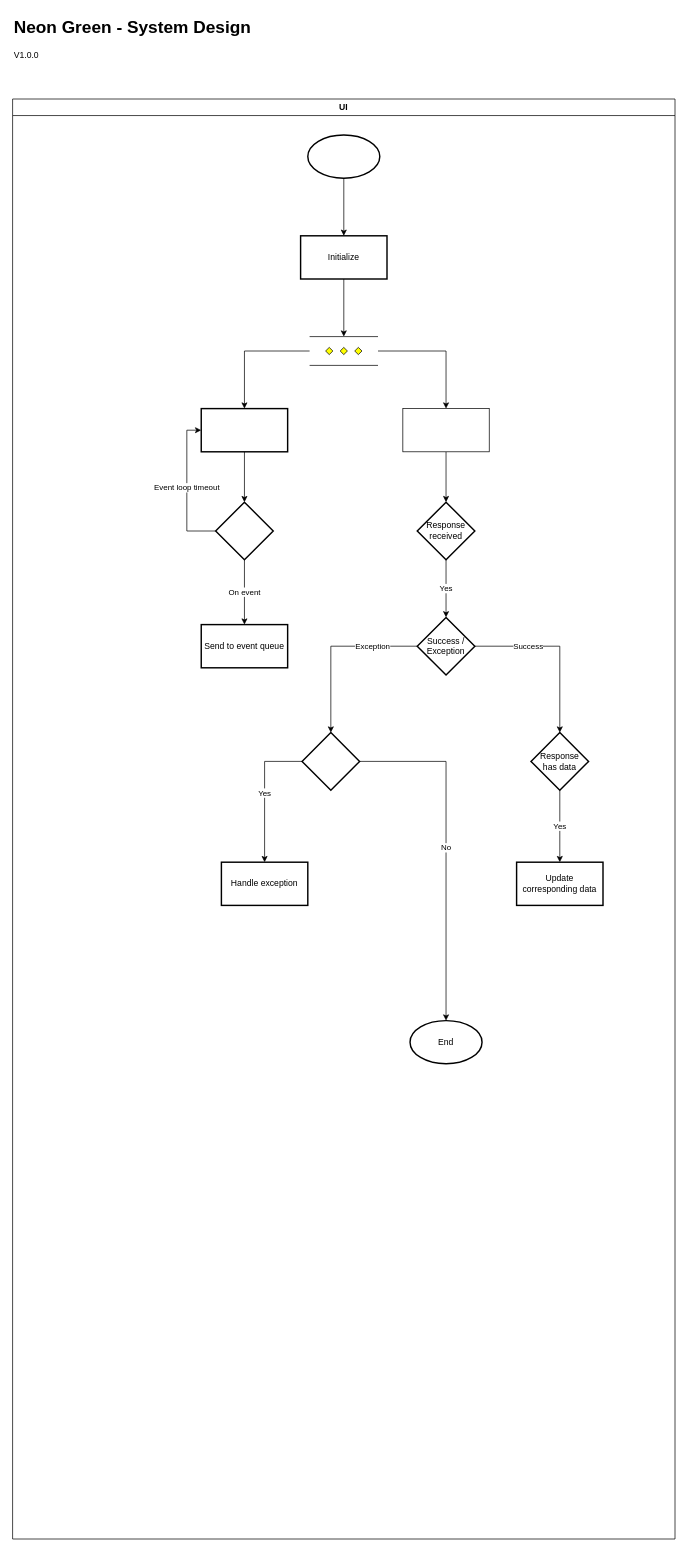
Some shapes in this 688 by 1552 pixel diagram are drawn without their labels. The box of each missing label's shape, as (x1, y1, x2, y2) in pixels:
Can be handled: (301, 732, 360, 791)
Start: (307, 134, 380, 179)
Start event loop: (200, 408, 288, 452)
Start listening on response stream: (402, 408, 489, 452)
UI event: (215, 501, 274, 560)
